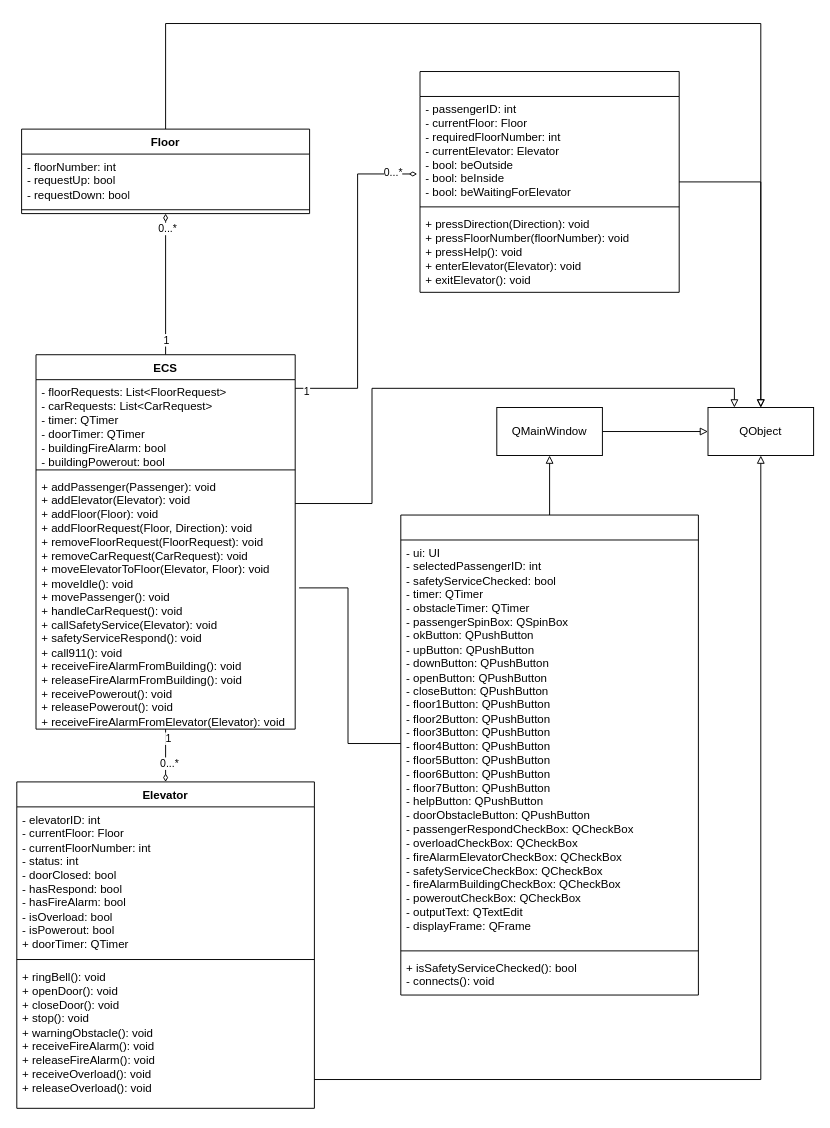
This 830x1128 diagram has some shape labels left out. Here are the shapes that lost their labels. From the top down, the box of each, then its label:
(419, 71, 679, 292): Pasenger
(400, 514, 698, 995): MainWindow
